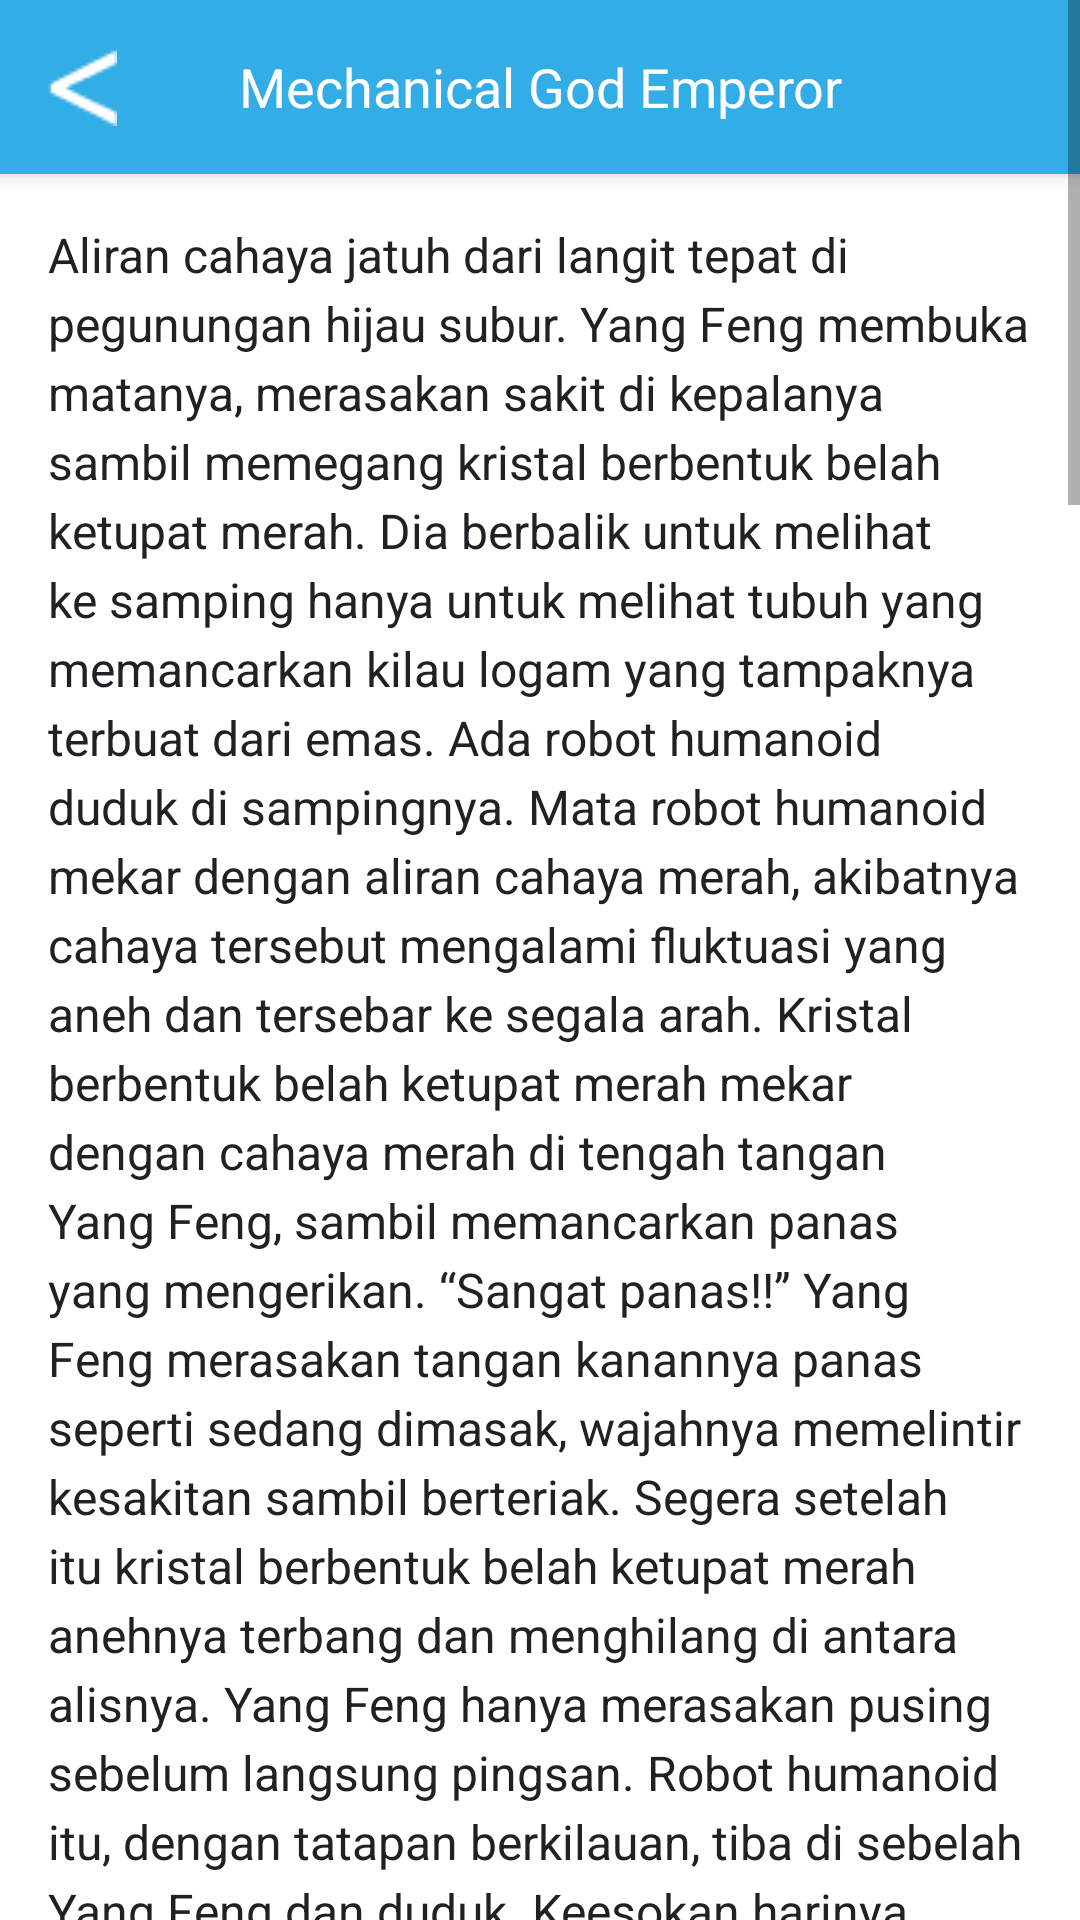

Point at icon controls on the screen. Image size 1080px x 1920px, points as [x,y].
back: [82,88]
